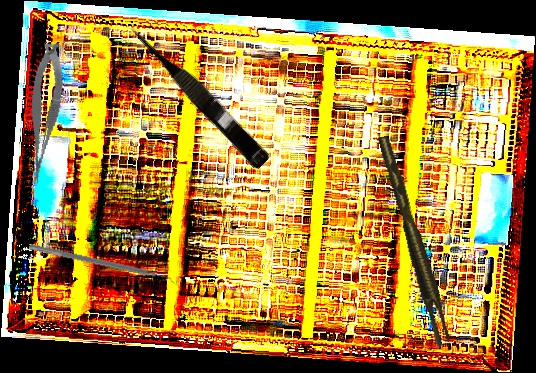Micro Scissor: (124, 17, 274, 171), (12, 39, 74, 187)
Spatula Surgical: (27, 243, 178, 288)
Tissue Forceps: (377, 132, 453, 350)
